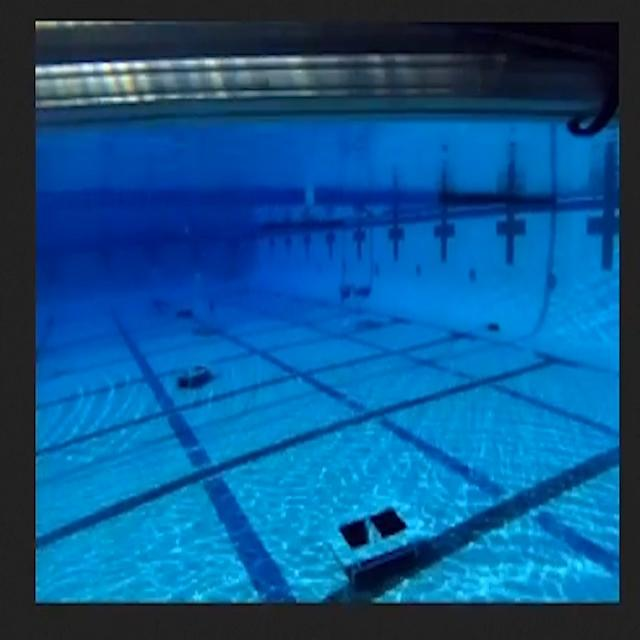Bin: (313, 482, 431, 596)
